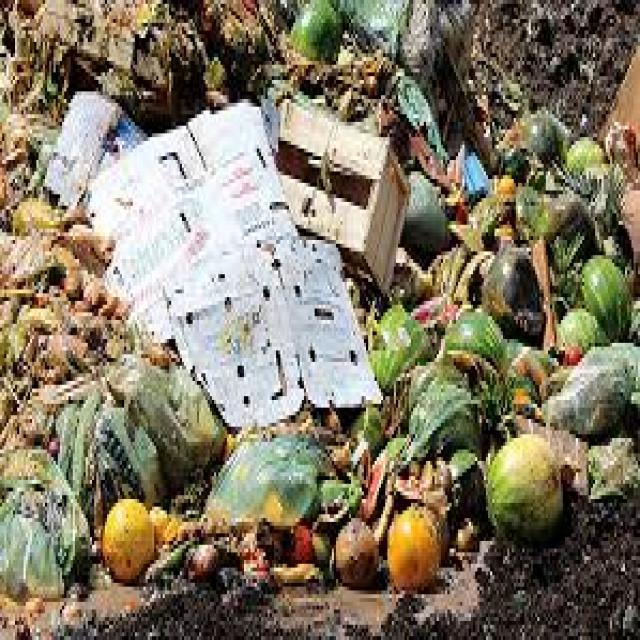Wet: (6, 0, 640, 640), (395, 223, 606, 582), (4, 320, 156, 636)
